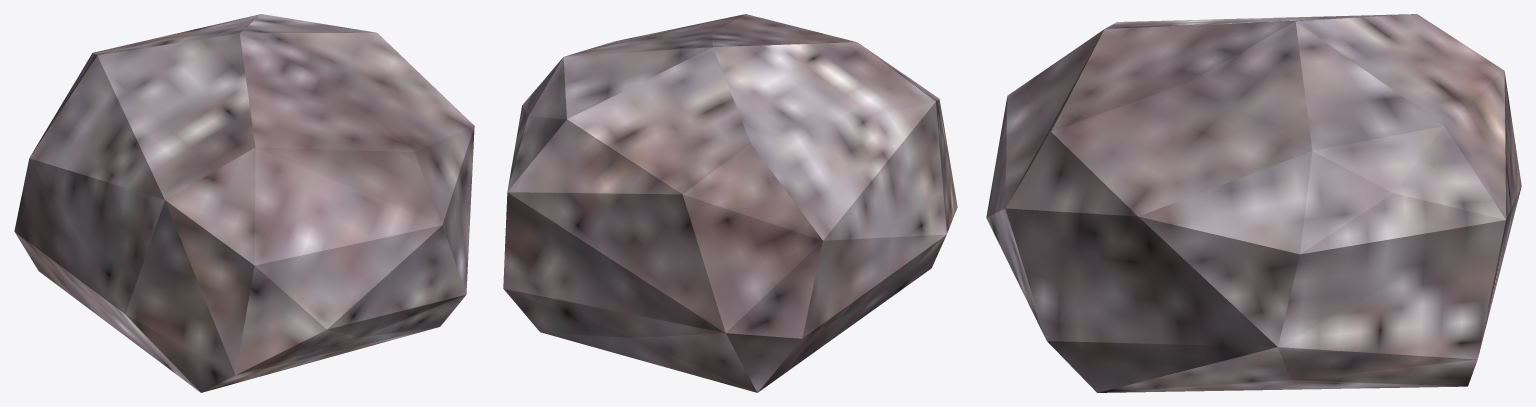
File: MS_Rock_7.fbx
3 renders of one model, left to right at view 1: azimuth 30°, elevation 25°; view 2: azimuth 150°, elevation 25°; view 3: azimuth 270°, elevation 25°, orthographic. The views are drawn at different scales.
Parts seen in each view (by area): view 1: MSH_Stone_Small; view 2: MSH_Stone_Small; view 3: MSH_Stone_Small.
Boxes of the visible parts, left/top/right/bottom form: MSH_Stone_Small: left=14, top=14, right=474, bottom=392; MSH_Stone_Small: left=503, top=14, right=957, bottom=392; MSH_Stone_Small: left=986, top=14, right=1521, bottom=392.
Size of the model in its own units: 19.39 by 13.32 by 20.8.
